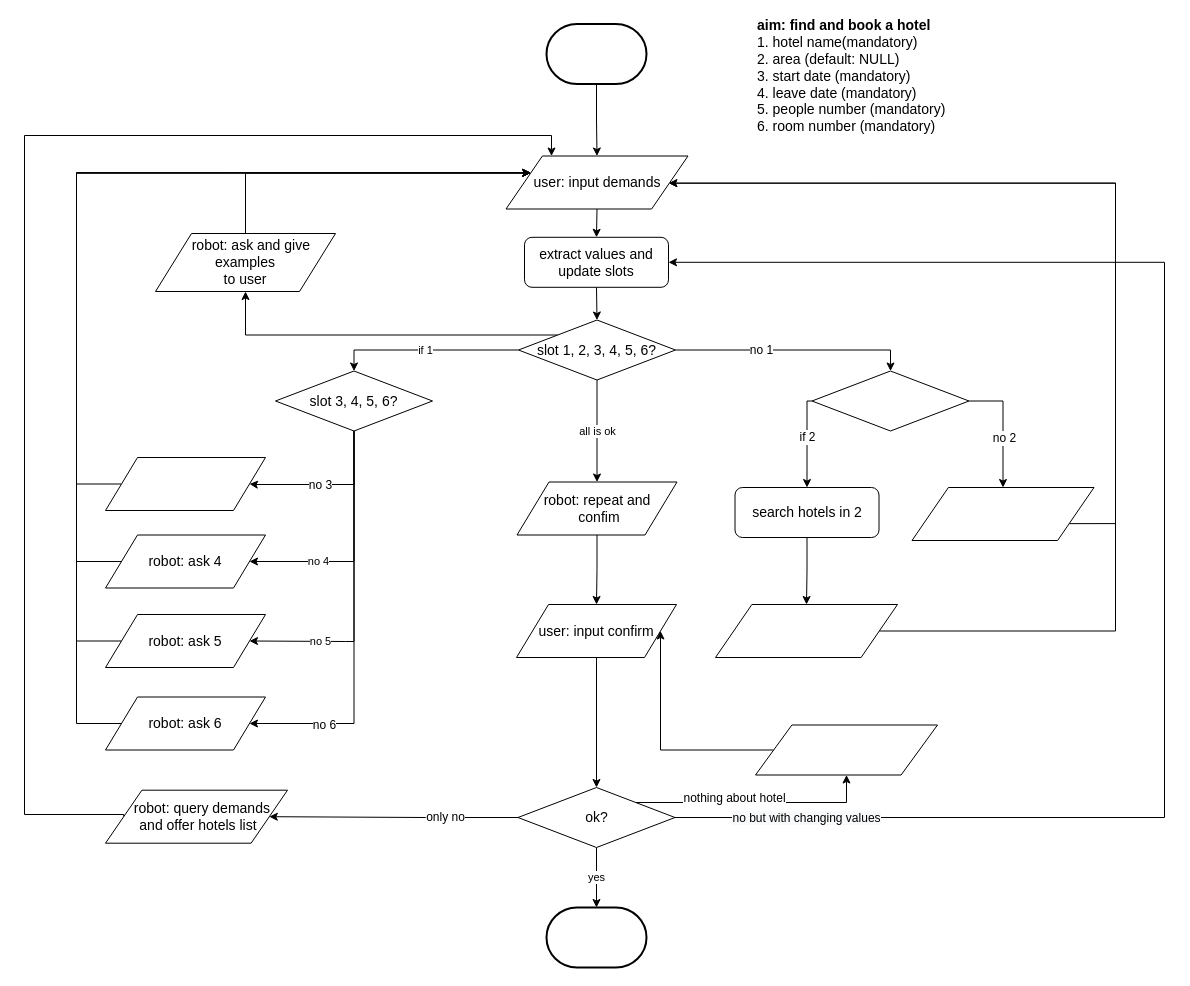
This 1190x986 diagram has some shape labels left out. The shapes that lost their labels are listed below. From the top down, each one's box as (x1, y1, x2, y2) in pixels, then its label:
(545, 22, 647, 84): start
(811, 370, 969, 431): slot 2?
(104, 456, 266, 510): robot: ask 3
(911, 486, 1094, 540): robot:give hotel list and give example to user
(714, 604, 898, 658): robot:output hotels list and confirm
(754, 724, 938, 775): robot:give example answers(yes or no or change)
(545, 906, 647, 968): stop
